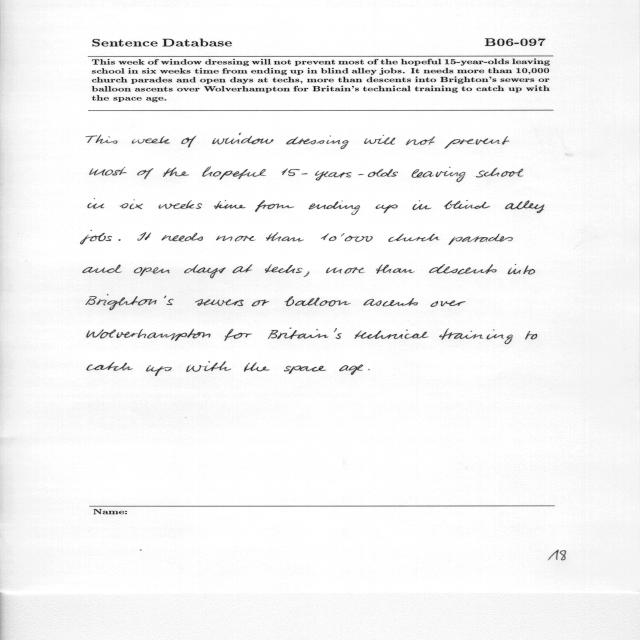word: (87, 329, 211, 341), (282, 169, 398, 181), (86, 295, 173, 311), (439, 329, 513, 345), (286, 135, 349, 149), (445, 136, 510, 149), (202, 167, 266, 180), (268, 328, 342, 339), (412, 167, 466, 182), (355, 329, 429, 339), (285, 296, 351, 307), (448, 234, 513, 245), (309, 201, 360, 215), (212, 133, 274, 144), (429, 264, 497, 274), (184, 265, 226, 278), (505, 201, 544, 214), (186, 361, 231, 372), (476, 168, 523, 178), (255, 200, 294, 212), (321, 233, 373, 242), (81, 230, 112, 245), (363, 298, 418, 306), (444, 200, 490, 209), (87, 362, 133, 371), (389, 234, 440, 242), (159, 200, 202, 209), (161, 233, 203, 242), (284, 365, 326, 374), (376, 265, 415, 274), (195, 299, 244, 306), (266, 233, 304, 242), (224, 329, 252, 341), (90, 167, 127, 176), (265, 264, 302, 273), (134, 267, 170, 276), (364, 135, 396, 145), (132, 136, 170, 144), (83, 265, 121, 273), (508, 264, 535, 275), (214, 200, 246, 209), (146, 365, 172, 376), (86, 135, 117, 144), (326, 267, 365, 274), (339, 364, 363, 375), (406, 137, 435, 146), (163, 167, 189, 177), (244, 362, 270, 372), (430, 300, 466, 307), (216, 236, 256, 242), (120, 200, 143, 210), (376, 204, 398, 213), (413, 201, 432, 211), (233, 264, 253, 273), (137, 168, 153, 179), (88, 198, 104, 209), (181, 136, 196, 147), (137, 232, 151, 241), (252, 300, 269, 307), (525, 331, 537, 339), (304, 272, 309, 278), (118, 239, 121, 241), (368, 369, 370, 370)
